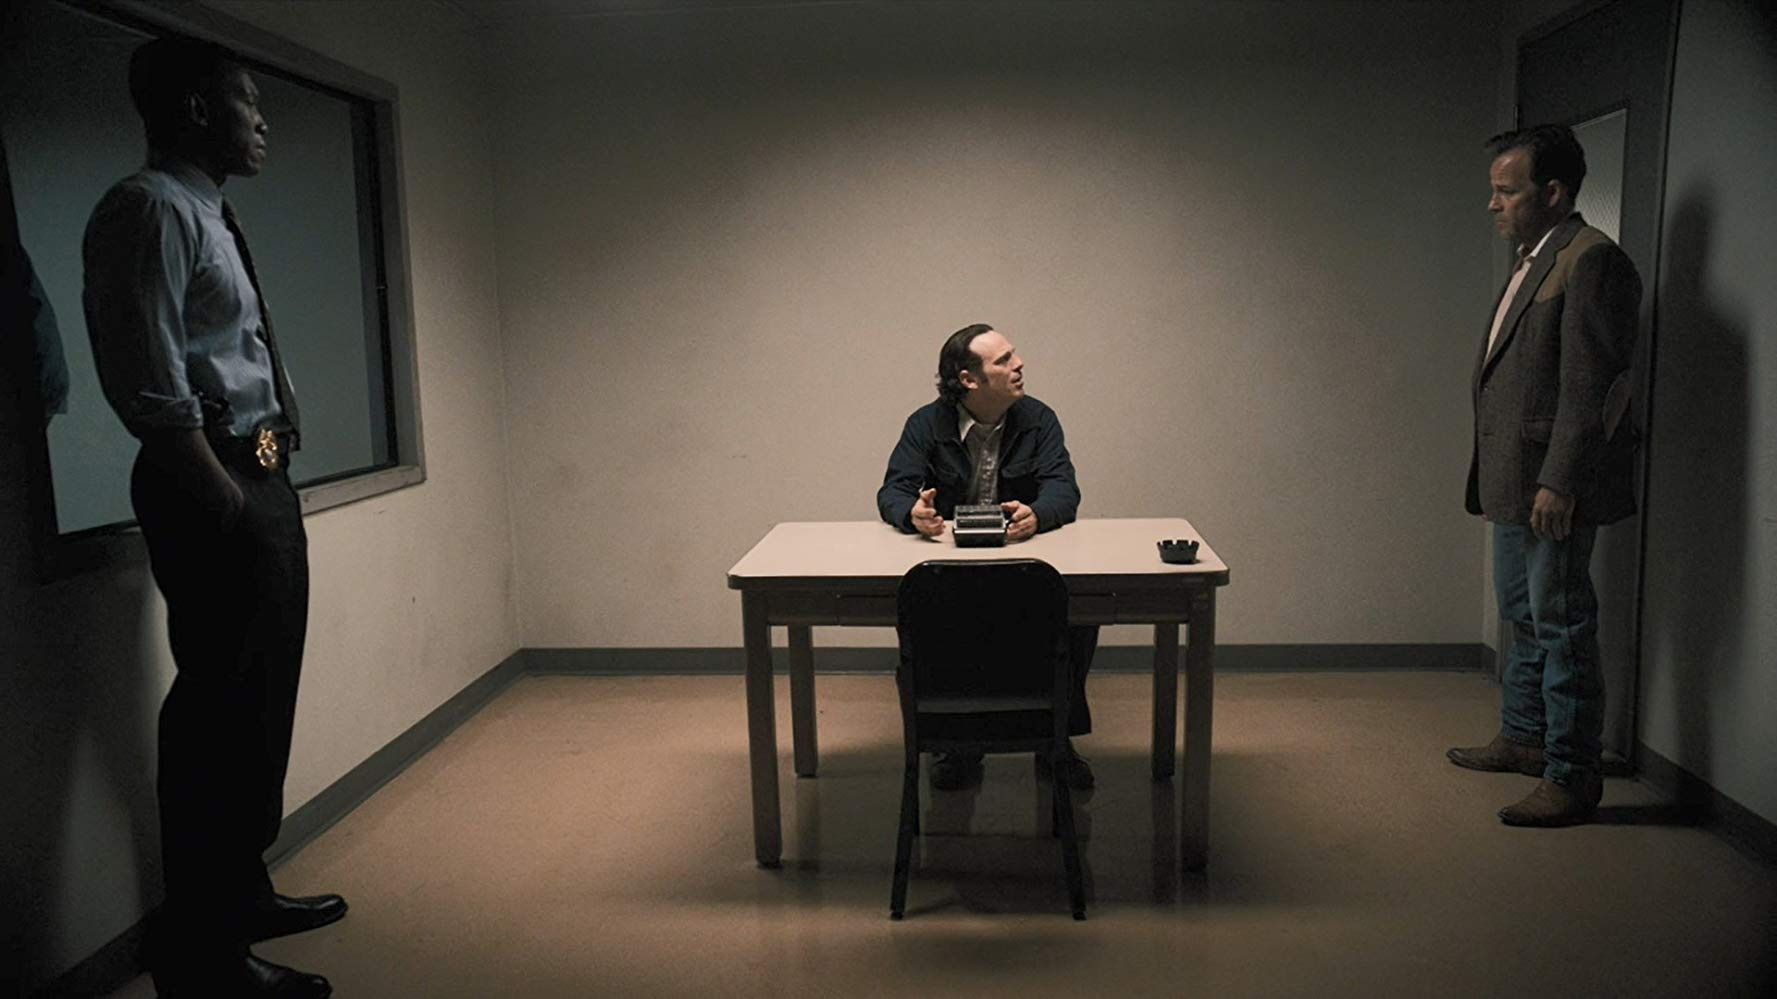person: (85, 33, 416, 982), (1435, 117, 1647, 832), (877, 313, 1097, 545)
